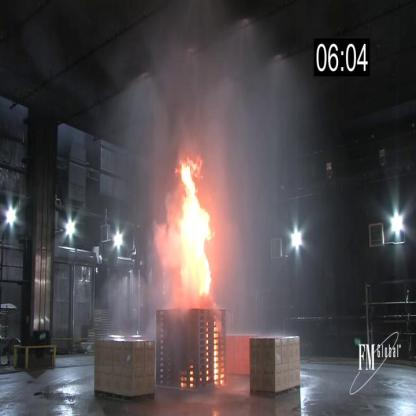fire: (176, 158, 218, 306)
